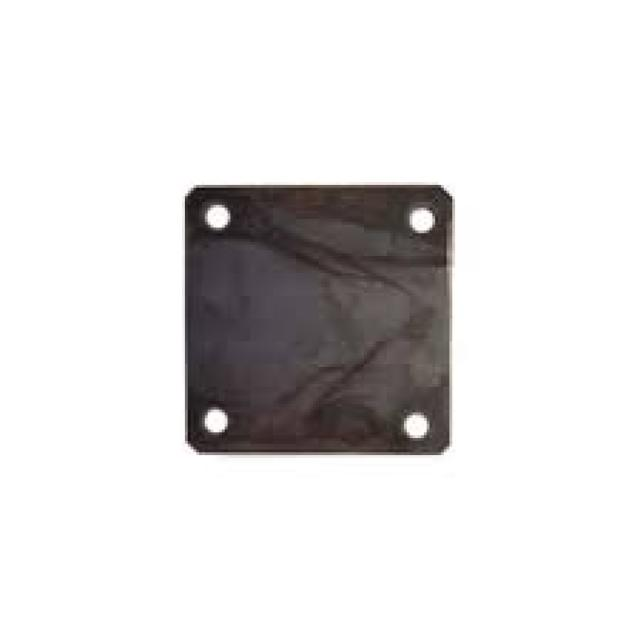holes: (398, 409, 433, 443), (201, 404, 233, 440), (202, 202, 230, 230), (407, 205, 435, 233)
